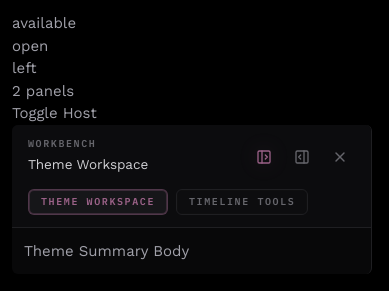
Test: AppWorkbenchHost › supports switching between multiple registered panels
Expected: the text "2 panels" is shown, [12, 82, 74, 100]
Expected: the text "Theme Summary Body" is shown, [24, 242, 189, 260]
Click the button "Timeline Tools".
click(242, 202)  # box [176, 188, 308, 214]
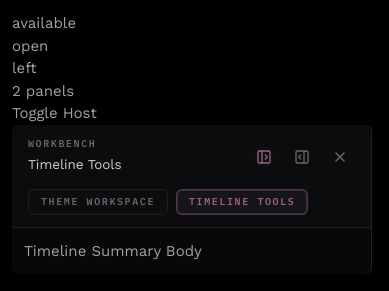
Result: the text "Timeline Summary Body" is shown at [24, 242, 202, 260]
